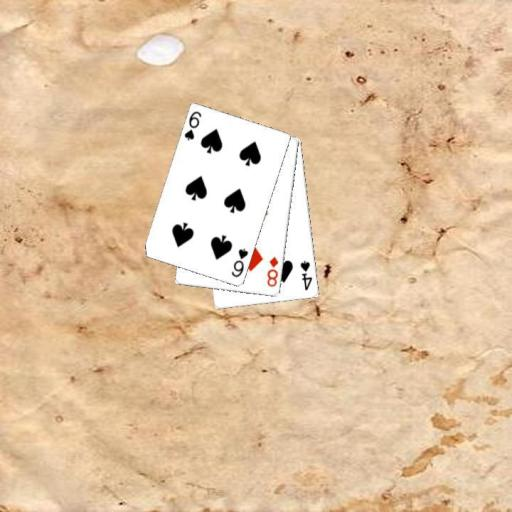4S: (298, 258, 315, 292)
6S: (228, 245, 250, 279), (181, 108, 203, 142)
8D: (264, 253, 280, 289)
